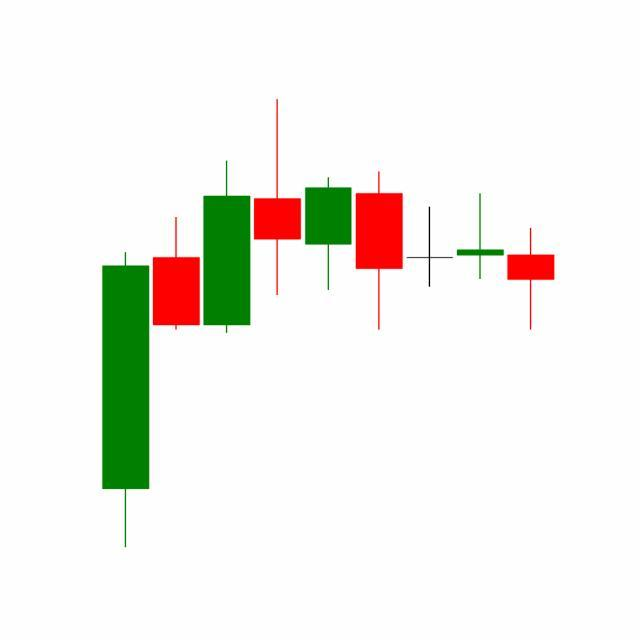Hikkake Pattern: (252, 100, 506, 335)
